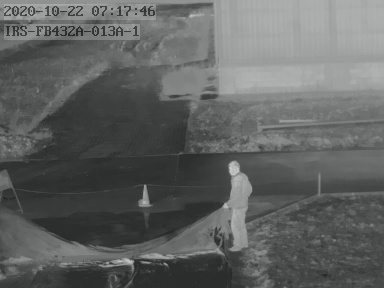person: (223, 160, 252, 250)
